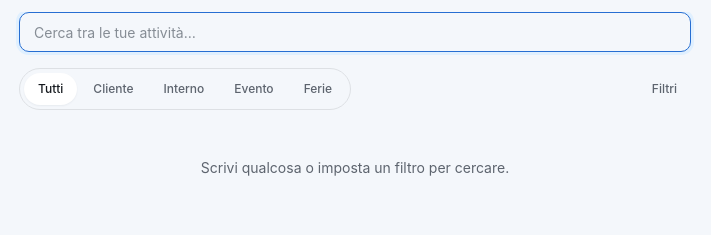
Test: SearchView › mostra i risultati che combaciano col testo
The width and height of the screenshot is (711, 235).
In the search field labelled "Cerca": [355, 32] box [19, 12, 691, 52], type "alfa"
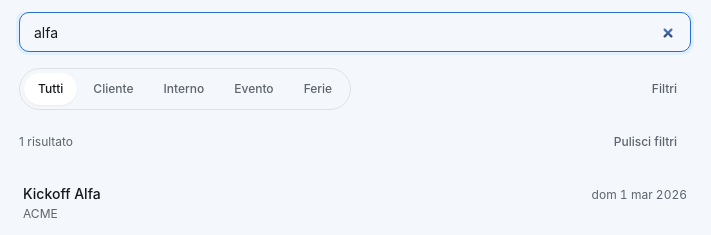
Expected: the text "Kickoff Alfa" is shown, [23, 184, 101, 204]
